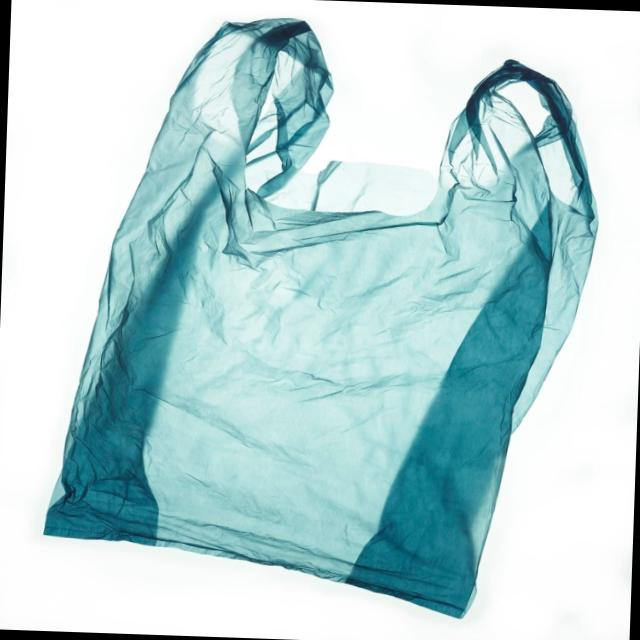plastic_bag: (28, 0, 605, 640)
